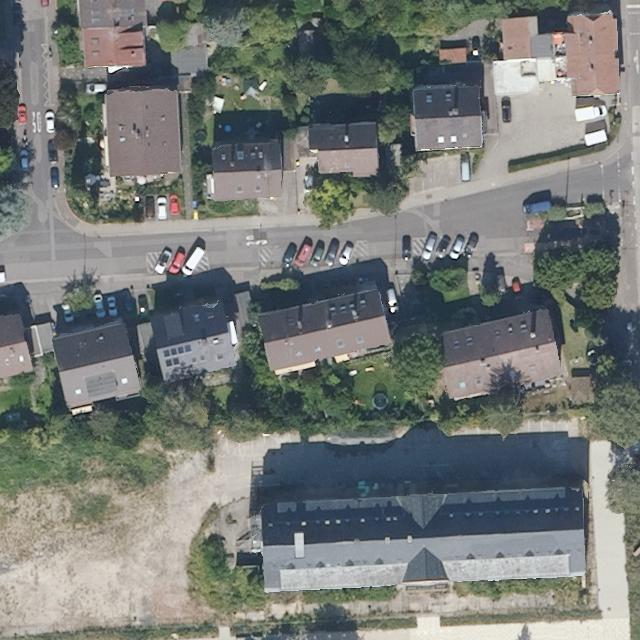PV: (160, 342, 194, 370)
